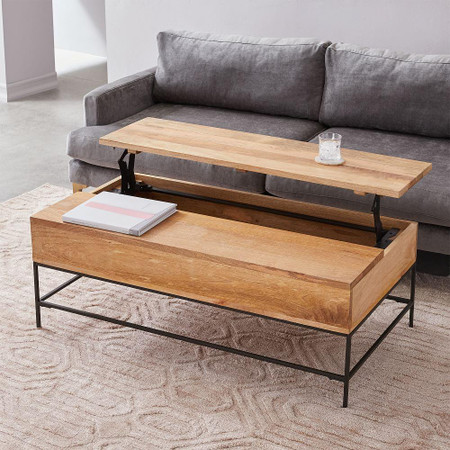sofa: (61, 24, 450, 275)
table: (23, 110, 440, 413)
